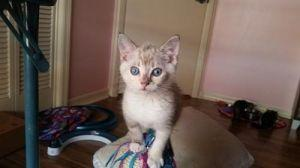siamese: (115, 29, 185, 98)
